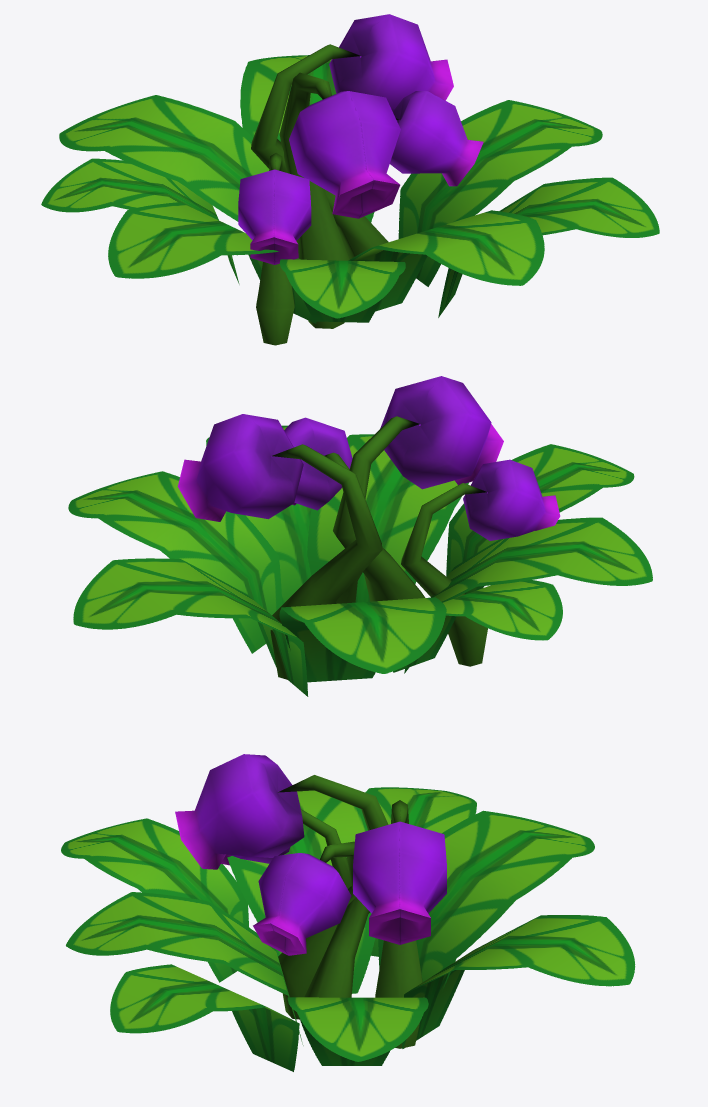
The model's file is Flower_05.FBX.
The picture shows the model from 3 angles, top to bottom: view 1: azimuth 30°, elevation 25°; view 2: azimuth 150°, elevation 25°; view 3: azimuth 270°, elevation 25°; orthographic projection.
Visible parts, largest first — view 1: Flower_05; view 2: Flower_05; view 3: Flower_05.
Boxes of the visible parts, box(x1,y1,x2,y2) form: Flower_05: box(41, 14, 659, 345); Flower_05: box(68, 376, 652, 696); Flower_05: box(61, 754, 635, 1071).
Bounding box in the file's own units: 84.66 × 36.55 × 87.93.
